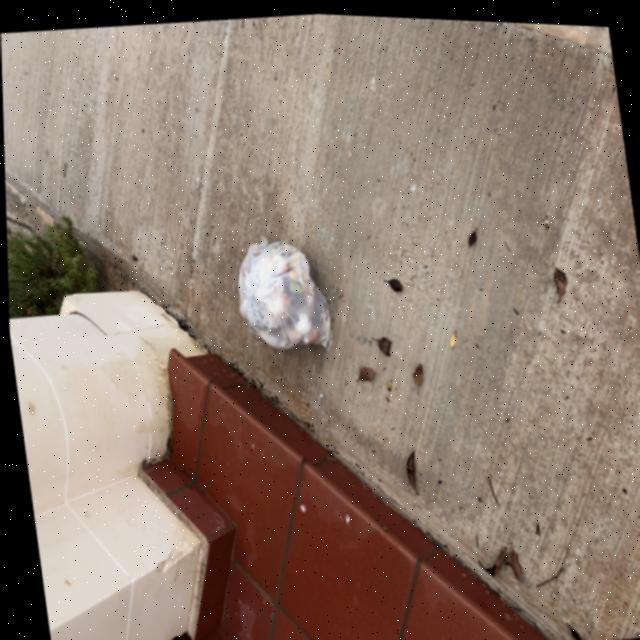Organic Waste -White Bag-: (225, 230, 344, 362)
